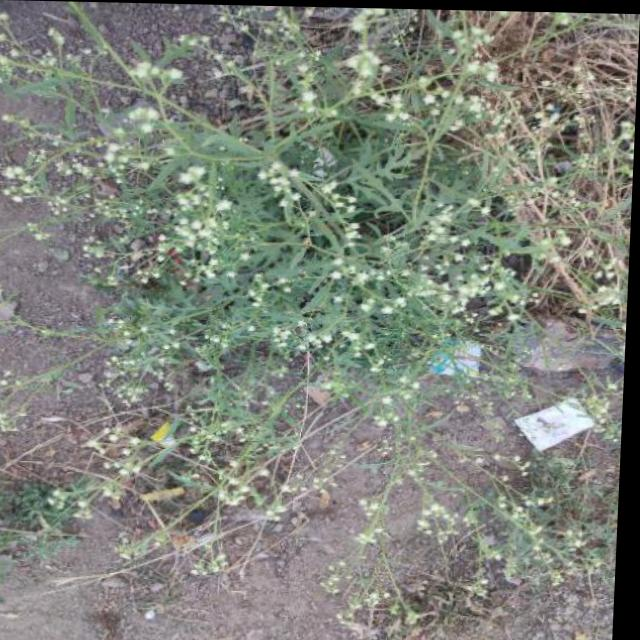weed: (102, 4, 640, 388)
